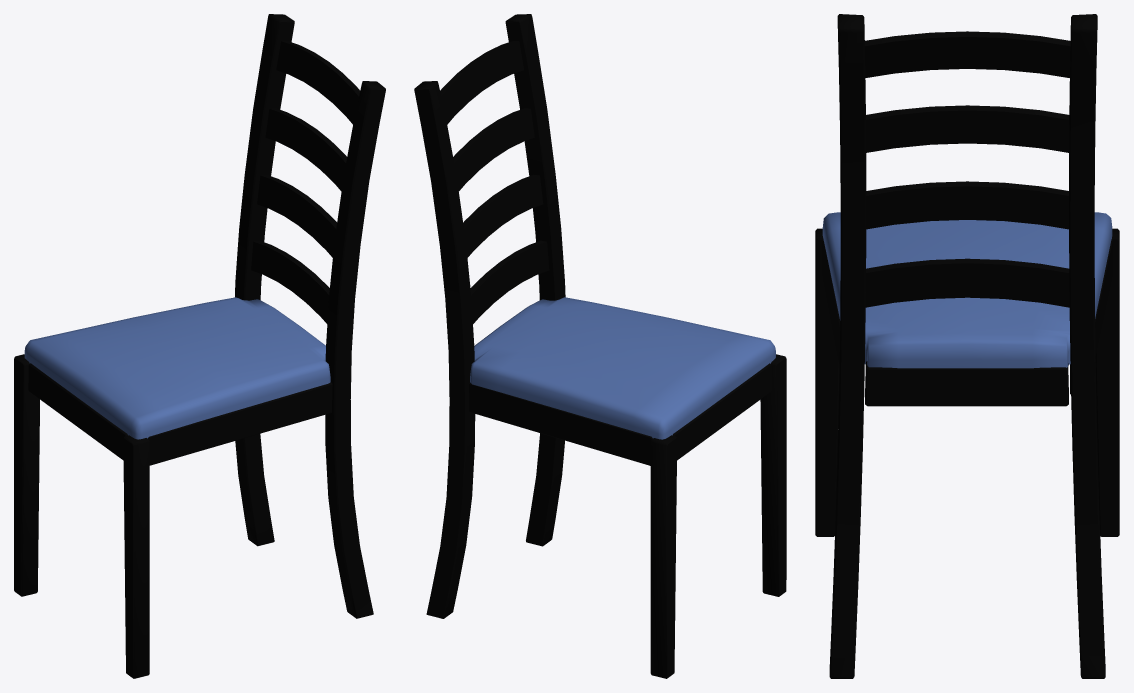
Rendered from meko chair 16.fbx.
The picture shows the model from 3 angles, left to right: view 1: azimuth 30°, elevation 25°; view 2: azimuth 150°, elevation 25°; view 3: azimuth 270°, elevation 25°; orthographic projection. The views are drawn at different scales.
Parts seen in each view (by area): view 1: wood_003, seat004, wood_004; view 2: wood_003, seat004, wood_004; view 3: wood_003, wood_004, seat004.
Part boxes in pixels (bbox=[...]): wood_003: bbox=[14, 14, 385, 678]; seat004: bbox=[24, 297, 330, 439]; wood_004: bbox=[251, 41, 359, 323]; wood_003: bbox=[414, 14, 786, 678]; seat004: bbox=[470, 297, 775, 439]; wood_004: bbox=[440, 41, 549, 323]; wood_003: bbox=[815, 14, 1119, 678]; wood_004: bbox=[864, 31, 1070, 307]; seat004: bbox=[822, 212, 1112, 368].
Bounding box in the file's own units: 52.81 × 101 × 41.8.
